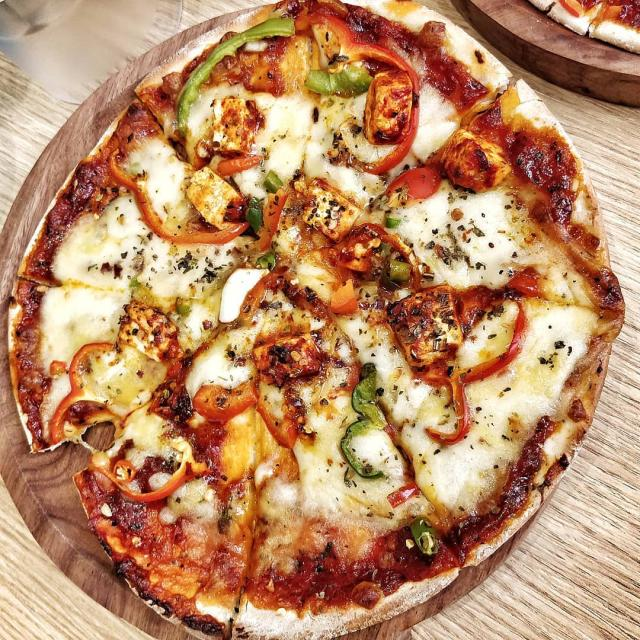pizza: (7, 0, 625, 640)
